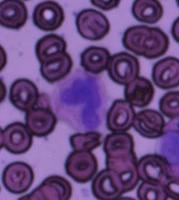N: (51, 68, 109, 133)
